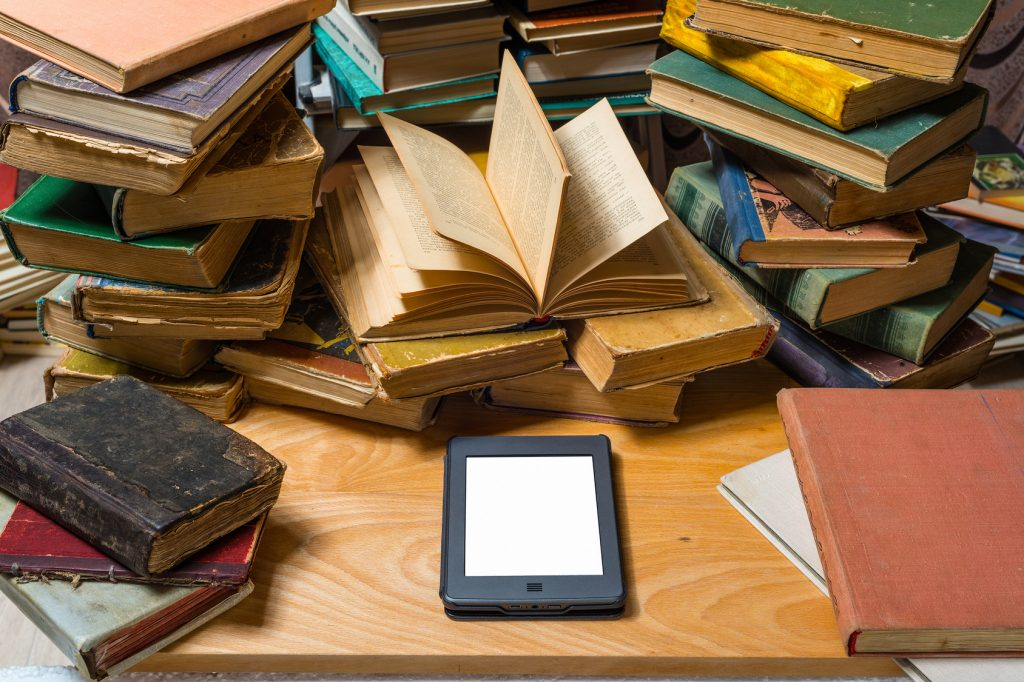Open Book: (325, 44, 718, 334)
